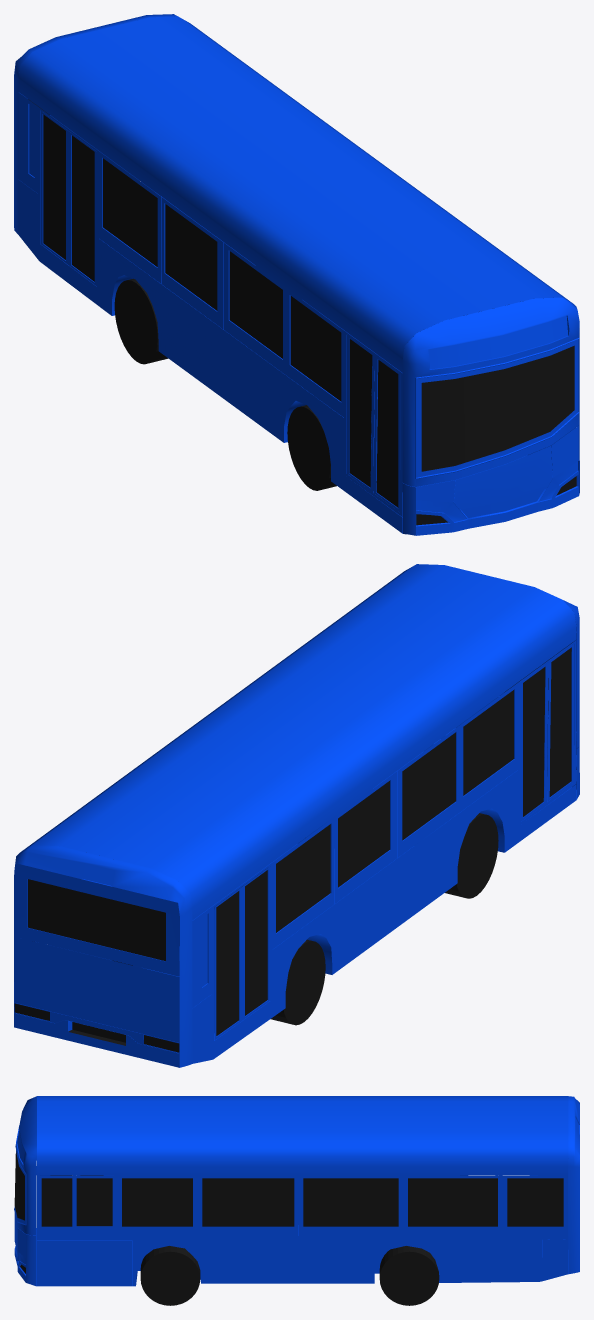
Rendered from bus.glb.
3 views of the same model, one above another, from view 1: azimuth 30°, elevation 25°; view 2: azimuth 150°, elevation 25°; view 3: azimuth 270°, elevation 25° (orthographic). The views are drawn at different scales.
Parts seen in each view (by area): view 1: Cylinder.004; view 2: Cylinder.004; view 3: Cylinder.004, Cylinder, Cylinder.003.
Boxes of the visible parts, x1,y1,x2,y2 form: Cylinder.004: (14, 14, 579, 535); Cylinder.004: (14, 564, 579, 1067); Cylinder.004: (14, 1096, 579, 1298); Cylinder: (379, 1252, 439, 1305); Cylinder.003: (141, 1252, 199, 1305).
Bounding box in the file's own units: 2.51 × 3.06 × 9.94.
